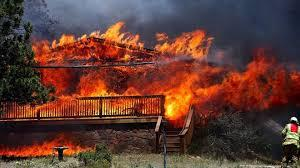fire: (0, 25, 300, 125), (0, 135, 99, 160)
